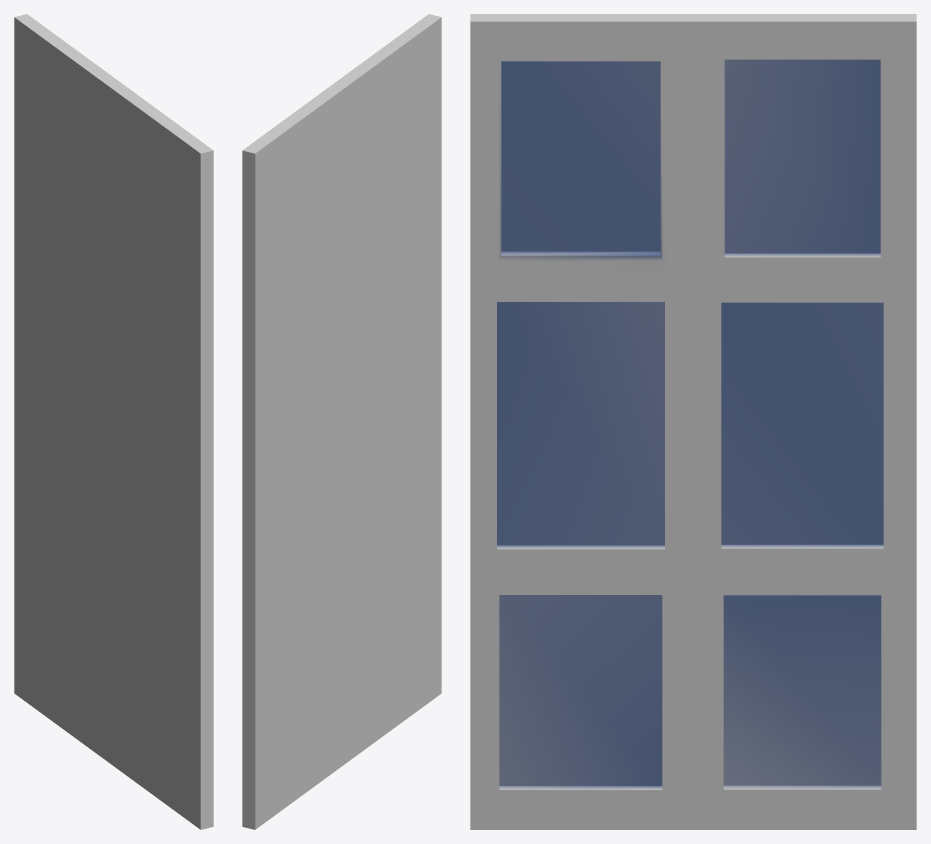
Rendered from FBX_Stair_sidePanels.fbx.
3 renders of one model, left to right at view 1: azimuth 30°, elevation 25°; view 2: azimuth 150°, elevation 25°; view 3: azimuth 270°, elevation 25°, orthographic. The views are drawn at different scales.
Visible parts, largest first — view 1: FBX_Window; view 2: FBX_Window; view 3: FBX_Window.
Boxes of the visible parts, <box> form: FBX_Window: <box>14,14,213,829</box>; FBX_Window: <box>242,14,441,829</box>; FBX_Window: <box>470,14,916,829</box>.
Bounding box in the file's own units: 2 × 100 × 50.
